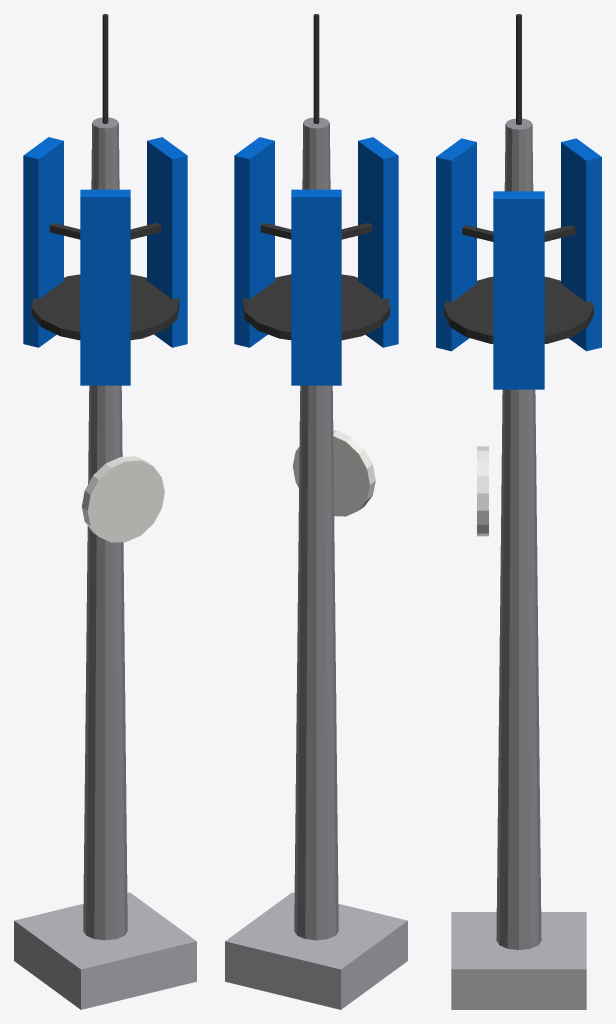
Rendered from antenna.glb.
3 renders of one model, left to right at view 1: azimuth 30°, elevation 25°; view 2: azimuth 150°, elevation 25°; view 3: azimuth 270°, elevation 25°, orthographic.
Visible parts, largest first — view 1: mast, plinth, panel_2, panel_1, panel_0, dish, ring, rod; view 2: mast, plinth, panel_1, panel_2, panel_0, ring, dish, rod; view 3: mast, plinth, panel_0, panel_1, panel_2, ring, dish, rod.
Part boxes in pixels (<box>): mast: <box>83,117,127,940</box>; plinth: <box>14,892,196,1009</box>; panel_2: <box>80,189,130,385</box>; panel_1: <box>23,137,63,347</box>; panel_0: <box>147,137,187,347</box>; dish: <box>81,456,164,542</box>; ring: <box>31,274,179,340</box>; rod: <box>102,14,108,123</box>; mast: <box>294,117,338,940</box>; plinth: <box>225,892,407,1009</box>; panel_1: <box>291,189,341,385</box>; panel_2: <box>358,137,398,347</box>; panel_0: <box>234,137,274,347</box>; ring: <box>242,274,390,340</box>; dish: <box>292,430,375,516</box>; rod: <box>313,14,319,123</box>; mast: <box>496,118,541,949</box>; plinth: <box>451,912,586,1009</box>; panel_0: <box>493,191,544,389</box>; panel_1: <box>561,138,601,351</box>; panel_2: <box>436,138,476,351</box>; ring: <box>444,277,593,343</box>; dish: <box>477,446,488,536</box>; rod: <box>516,14,521,124</box>.
Bounding box in the file's own units: 1.04 × 7.1 × 1.11.
